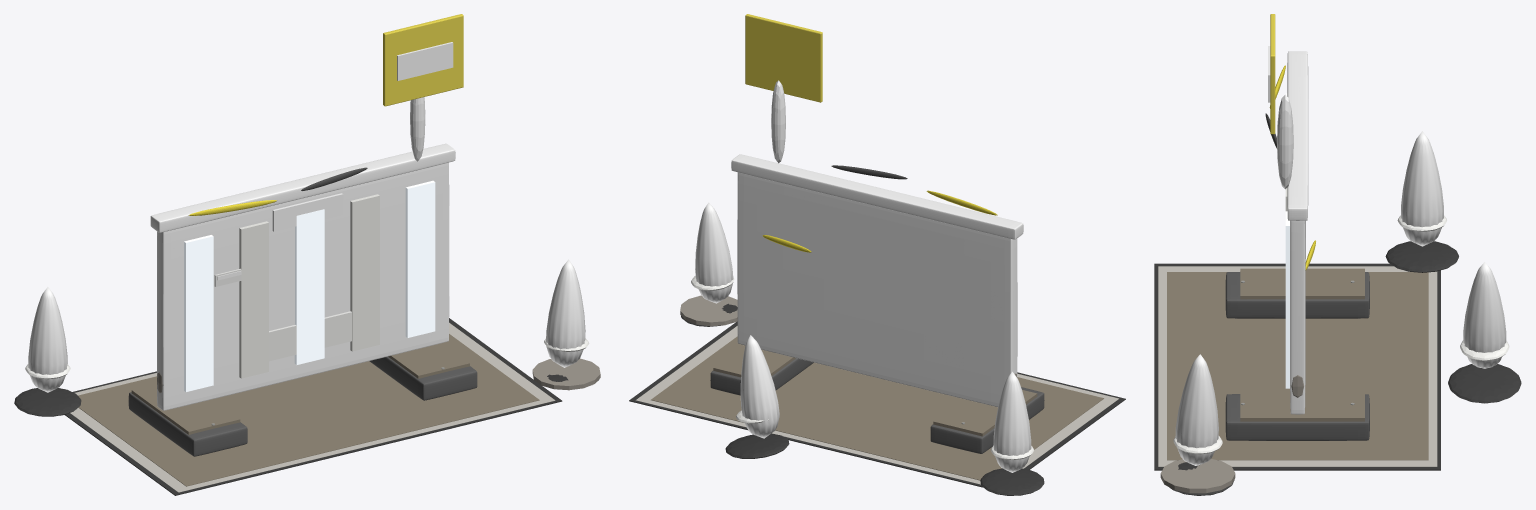
The model's file is hm_prop_barrier_set_v2.glb.
The picture shows the model from 3 angles, left to right: view 1: azimuth 30°, elevation 25°; view 2: azimuth 150°, elevation 25°; view 3: azimuth 270°, elevation 25°; orthographic projection. The views are drawn at different scales.
Parts seen in each view (by area): view 1: Bar_Panel, hm_prop_barrier_set_v2_Dirt, Bar_Rail, Bar_Stripe_4, Bar_TempSign, hm_prop_barrier_set_v2_SaltRing, Bar_Stripe_0, Bar_Stripe_1, Bar_Stripe_3, Bar_Stripe_2, Bar_Cone_1_Body, Bar_Cone_0_Body (+11 smaller); view 2: Bar_Panel, hm_prop_barrier_set_v2_Dirt, Bar_Rail, Bar_TempSign, hm_prop_barrier_set_v2_SaltRing, Bar_Cone_2_Body, Bar_Cone_1_Body, Bar_Cone_0_Body, hm_prop_barrier_set_v2_Shadow, Bar_Mud_-1, Bar_Foot_-1, Bar_Cone_0_Base (+5 smaller); view 3: hm_prop_barrier_set_v2_Dirt, hm_prop_barrier_set_v2_SaltRing, Bar_Mud_1, hm_prop_barrier_set_v2_Shadow, Bar_Foot_1, Bar_Cone_0_Body, Bar_Mud_-1, Bar_Cone_1_Body, Bar_Rail, Bar_Cone_2_Body, Bar_Foot_-1, Bar_Panel (+7 smaller).
Part boxes in pixels (x1,y1,x2,y2): Bar_Panel: [157, 162, 449, 410]; hm_prop_barrier_set_v2_Dirt: [78, 334, 539, 486]; Bar_Rail: [150, 143, 455, 232]; Bar_Stripe_4: [405, 180, 435, 337]; Bar_TempSign: [383, 14, 463, 106]; hm_prop_barrier_set_v2_SaltRing: [70, 322, 555, 492]; Bar_Stripe_0: [184, 235, 213, 391]; Bar_Stripe_1: [239, 221, 268, 378]; Bar_Stripe_3: [350, 194, 379, 351]; Bar_Stripe_2: [294, 209, 324, 364]; Bar_Cone_1_Body: [546, 259, 585, 367]; Bar_Cone_0_Body: [28, 287, 67, 392]; Bar_Panel: [737, 172, 1017, 406]; hm_prop_barrier_set_v2_Dirt: [651, 336, 1103, 480]; Bar_Rail: [731, 154, 1023, 239]; Bar_TempSign: [745, 14, 822, 102]; hm_prop_barrier_set_v2_SaltRing: [635, 326, 1118, 484]; Bar_Cone_2_Body: [740, 335, 779, 438]; Bar_Cone_1_Body: [695, 202, 733, 303]; Bar_Cone_0_Body: [993, 371, 1031, 472]; hm_prop_barrier_set_v2_Shadow: [629, 321, 1125, 487]; Bar_Mud_-1: [933, 390, 1037, 436]; Bar_Foot_-1: [930, 387, 1044, 453]; Bar_Cone_0_Base: [980, 468, 1044, 495]; hm_prop_barrier_set_v2_Dirt: [1167, 272, 1428, 460]; hm_prop_barrier_set_v2_SaltRing: [1158, 266, 1437, 466]; Bar_Mud_1: [1240, 390, 1364, 421]; hm_prop_barrier_set_v2_Shadow: [1154, 263, 1440, 470]; Bar_Foot_1: [1225, 394, 1369, 440]; Bar_Cone_0_Body: [1401, 131, 1443, 246]; Bar_Mud_-1: [1240, 268, 1364, 299]; Bar_Cone_1_Body: [1175, 354, 1218, 465]; Bar_Rail: [1287, 51, 1308, 220]; Bar_Cone_2_Body: [1463, 262, 1506, 368]; Bar_Foot_-1: [1225, 272, 1369, 318]; Bar_Panel: [1290, 220, 1305, 414].
Size of the model in its own units: 2.39 by 1.73 by 1.47.
